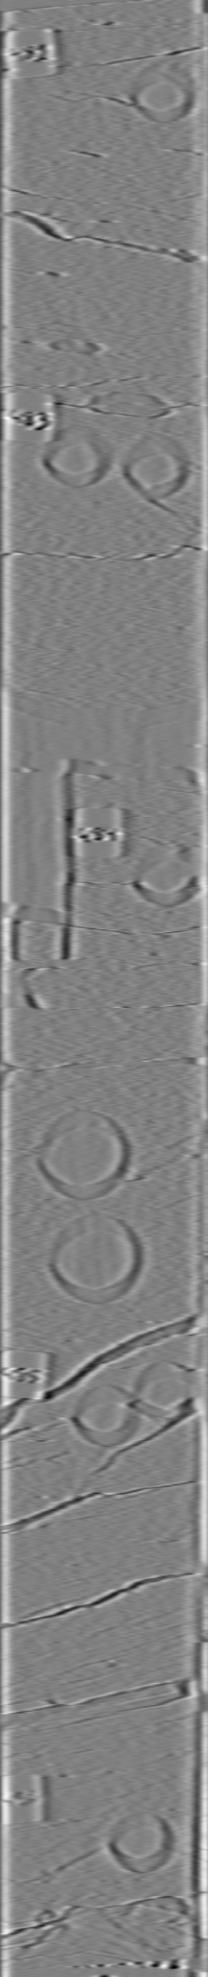hplug: (125, 833, 200, 912), (37, 419, 117, 490), (103, 1806, 178, 1877), (125, 55, 200, 126), (118, 430, 192, 501), (134, 1352, 199, 1430), (71, 1381, 135, 1452)
scal: (42, 1210, 145, 1314), (32, 1103, 134, 1202)
vplug: (5, 770, 78, 958)
